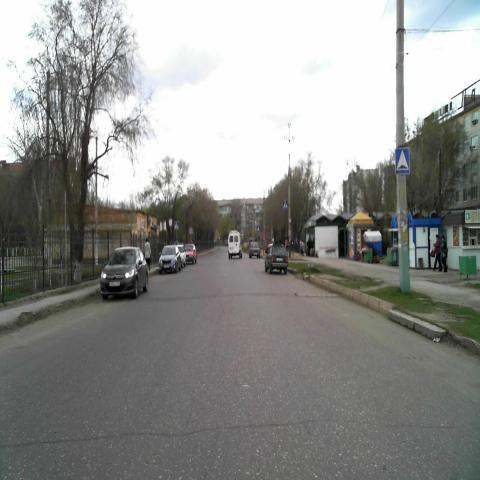5_20: (395, 147, 410, 174)
